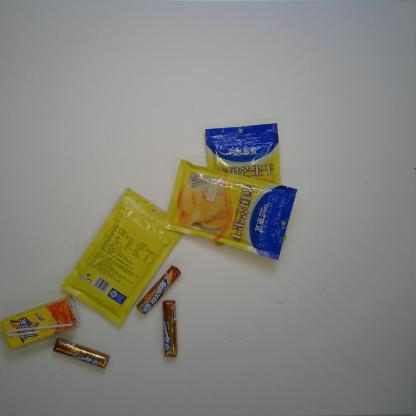Candy: (136, 264, 180, 314), (52, 337, 110, 370), (162, 299, 178, 358)
Dried Fruit: (59, 187, 184, 327), (162, 160, 299, 262), (205, 122, 289, 247)
Drink: (0, 294, 81, 351)
